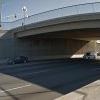Bridge: (5, 10, 100, 47)
